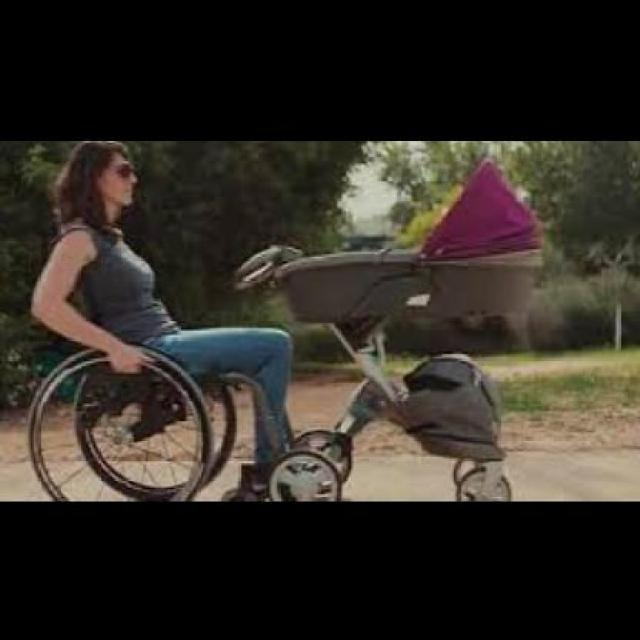wheelchairs: (11, 223, 305, 507)
